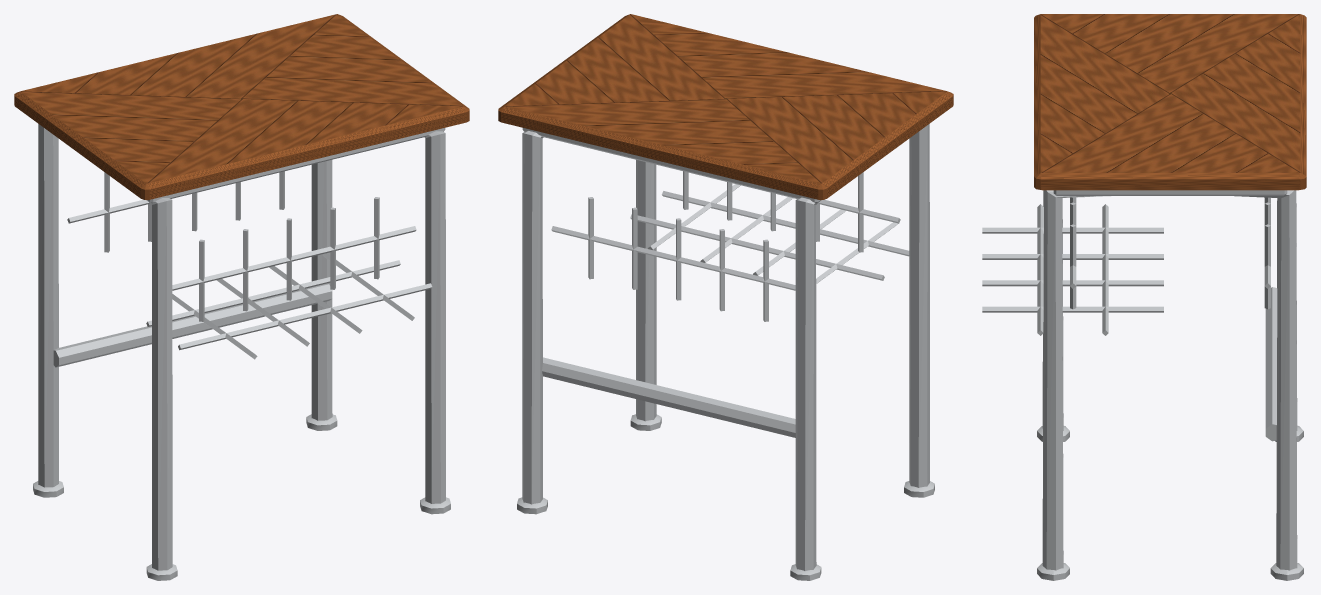
Rendered from student-desk.glb.
3 renders of one model, left to right at view 1: azimuth 30°, elevation 25°; view 2: azimuth 150°, elevation 25°; view 3: azimuth 270°, elevation 25°, orthographic. The views are drawn at different scales.
Visible parts, largest first — view 1: student-desk; view 2: student-desk; view 3: student-desk.
Part boxes in pixels (x1=…): student-desk: x1=14, y1=14, x2=469, y2=580; student-desk: x1=498, y1=14, x2=953, y2=580; student-desk: x1=982, y1=14, x2=1306, y2=580.
Size of the model in its own units: 0.6 by 0.7 by 0.5.
Materials: 2 (1 with a texture image).
